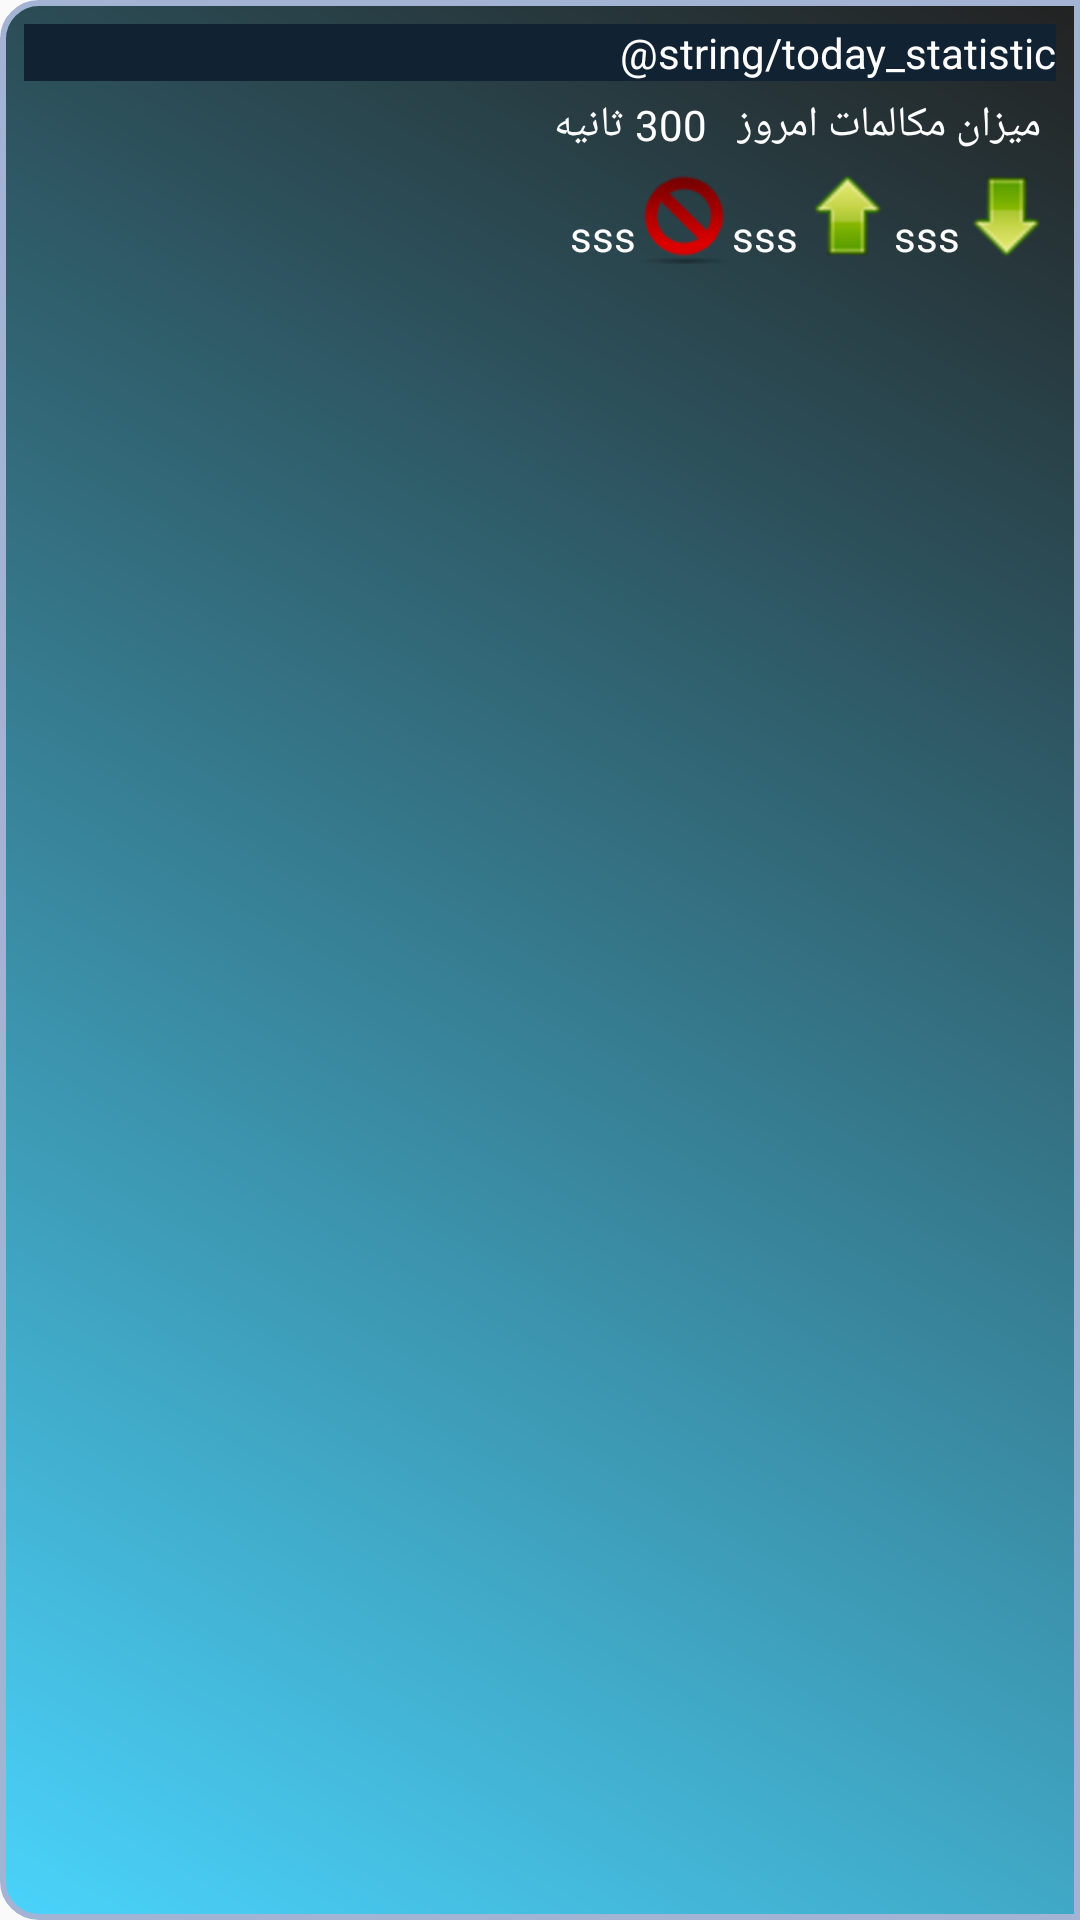

Icons on this 1080x1920 Android screen, each with the point to tap as point (x, y):
cancel: point (684, 216)
down: point (1006, 216)
